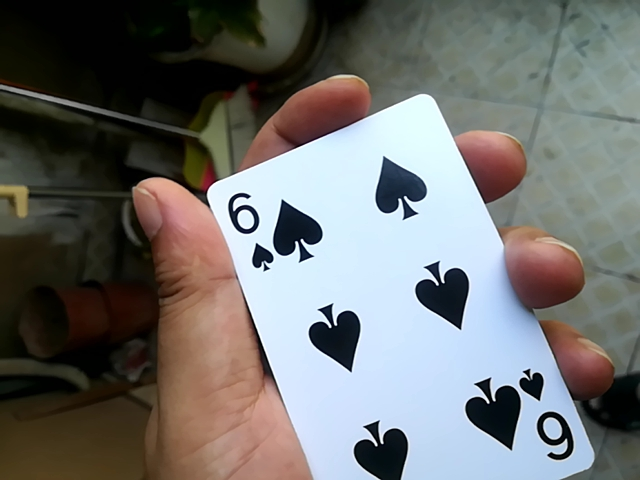ht 6: (198, 90, 590, 480)
